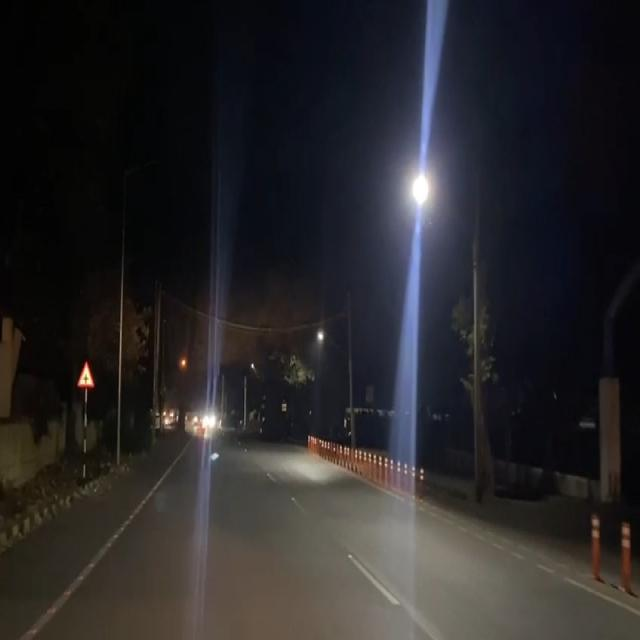bien_cam: (77, 360, 95, 390)
